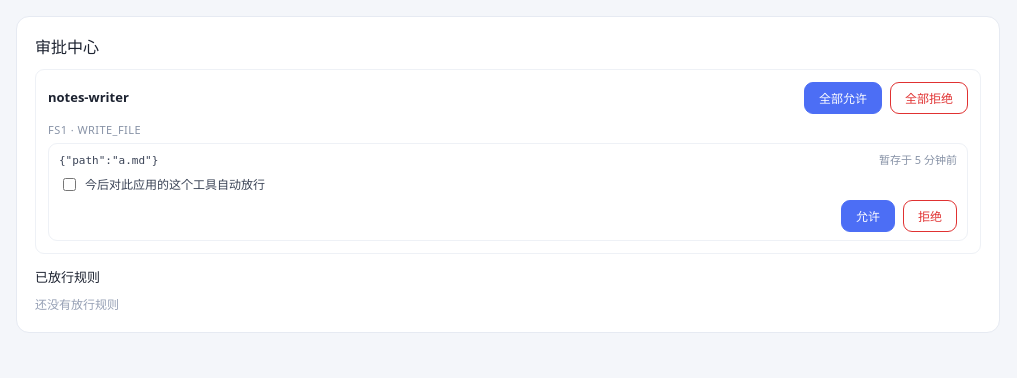
Test case: 重新鉴权失败（reason: unauthorized）时面板出现「权限变化」提示
Expected: the text "notes-writer" is shown, [48,88,129,108]
Click the button "允许" at (868, 216), box [841,200,895,232]
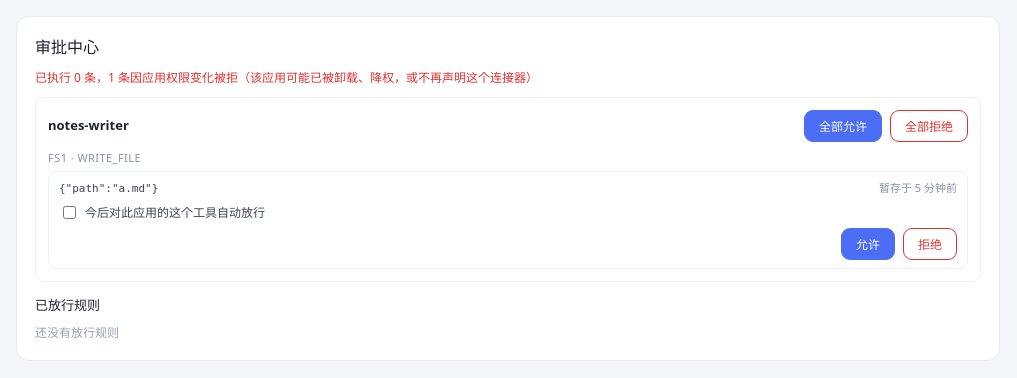
Expected: the text "已执行 0 条，1 条因应用权限变化被拒（该应用可能已被卸载、降权，或不再声明这个连接器）" is shown, [35,69,538,86]
